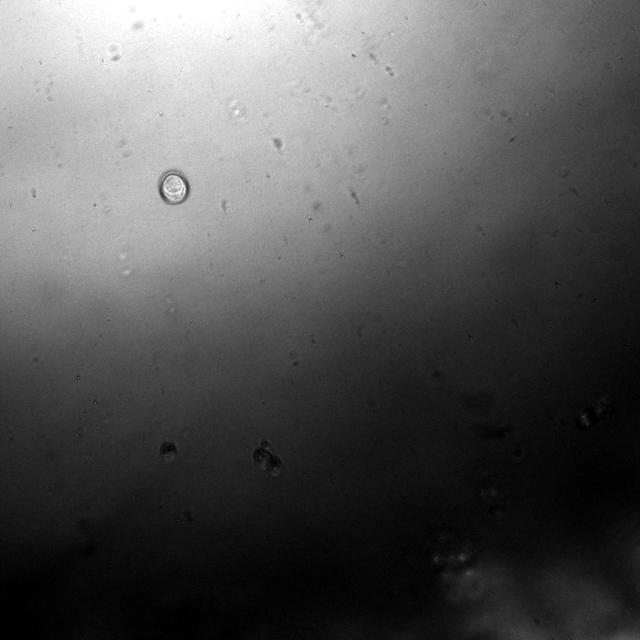organoid: (158, 169, 189, 205), (252, 441, 283, 476), (160, 441, 177, 461)
